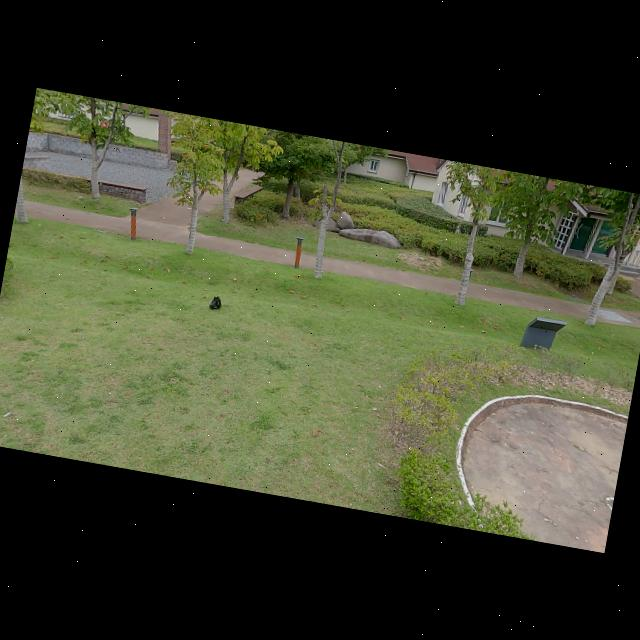trash: (206, 292, 223, 311)
